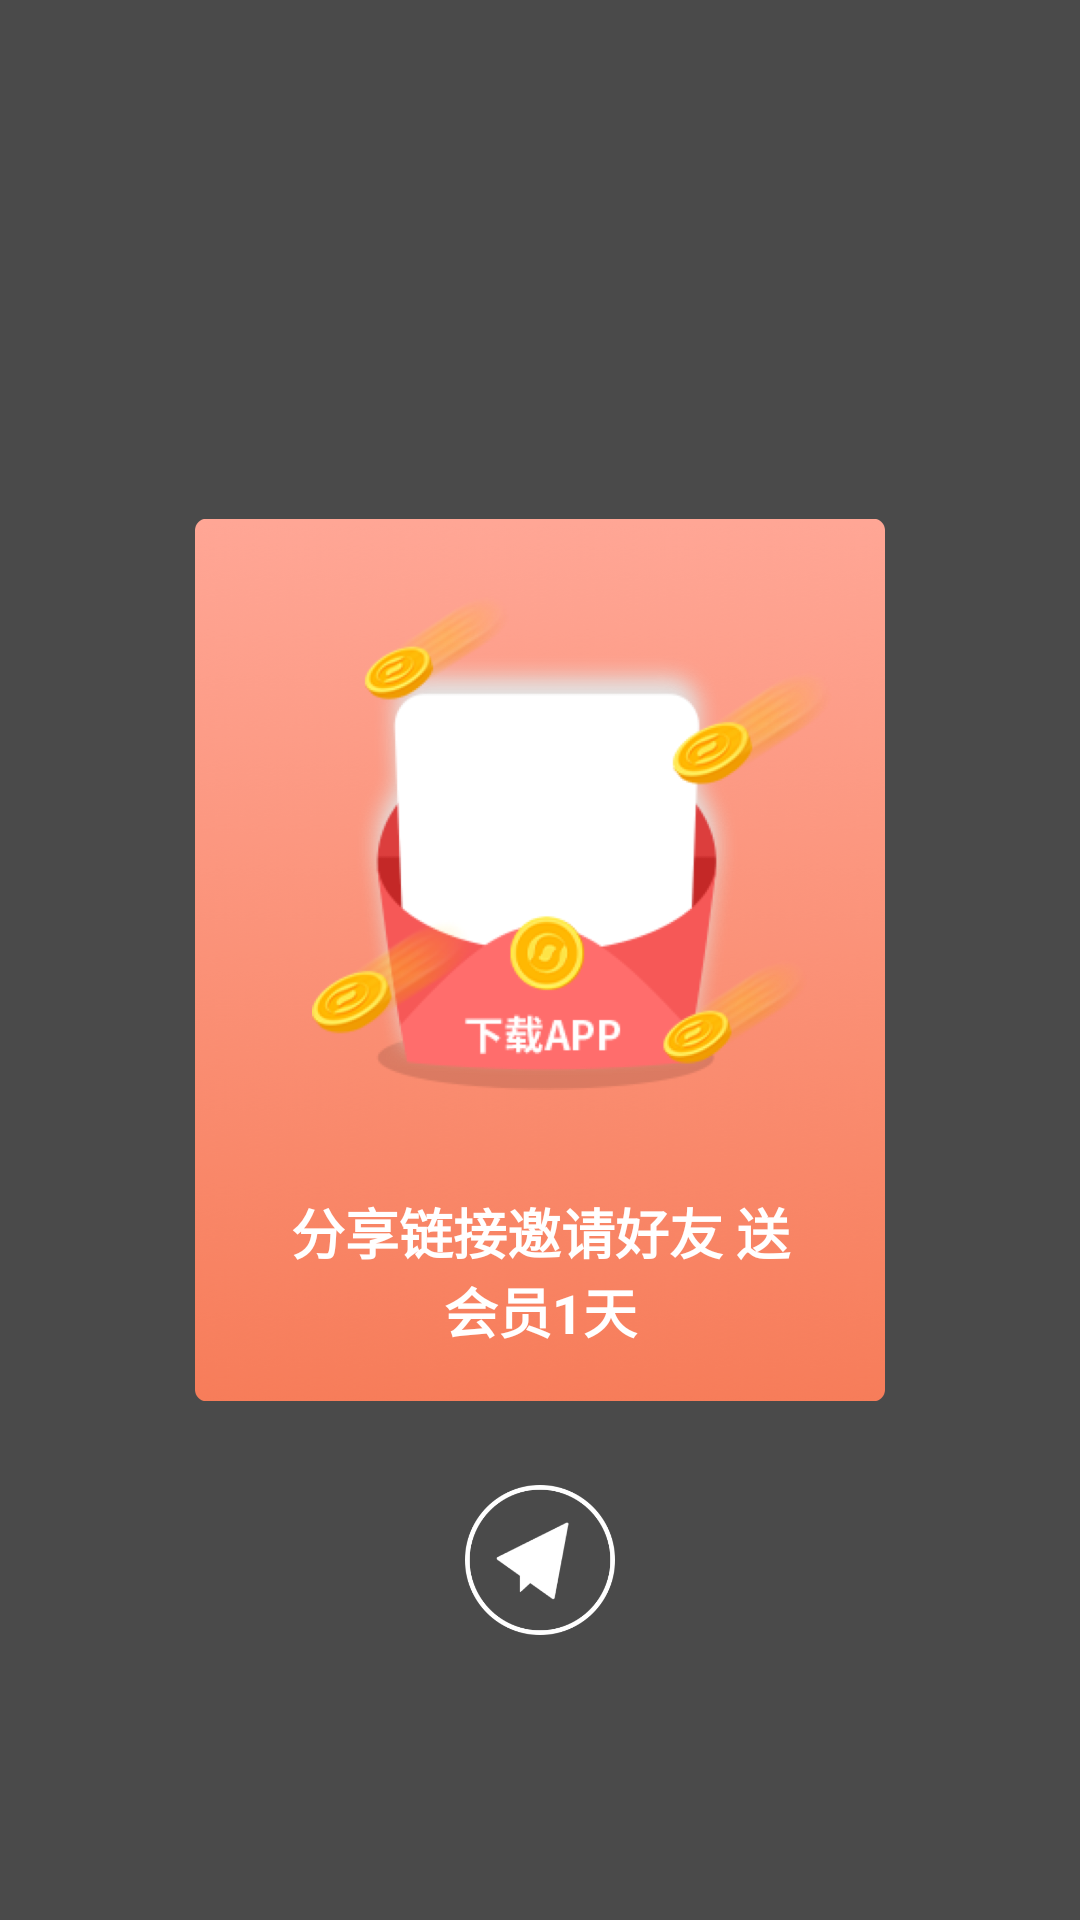

Icons on this 1080px x 1920px Android screen, each with the point to tap as (x,y):
share app: (540,1560)
